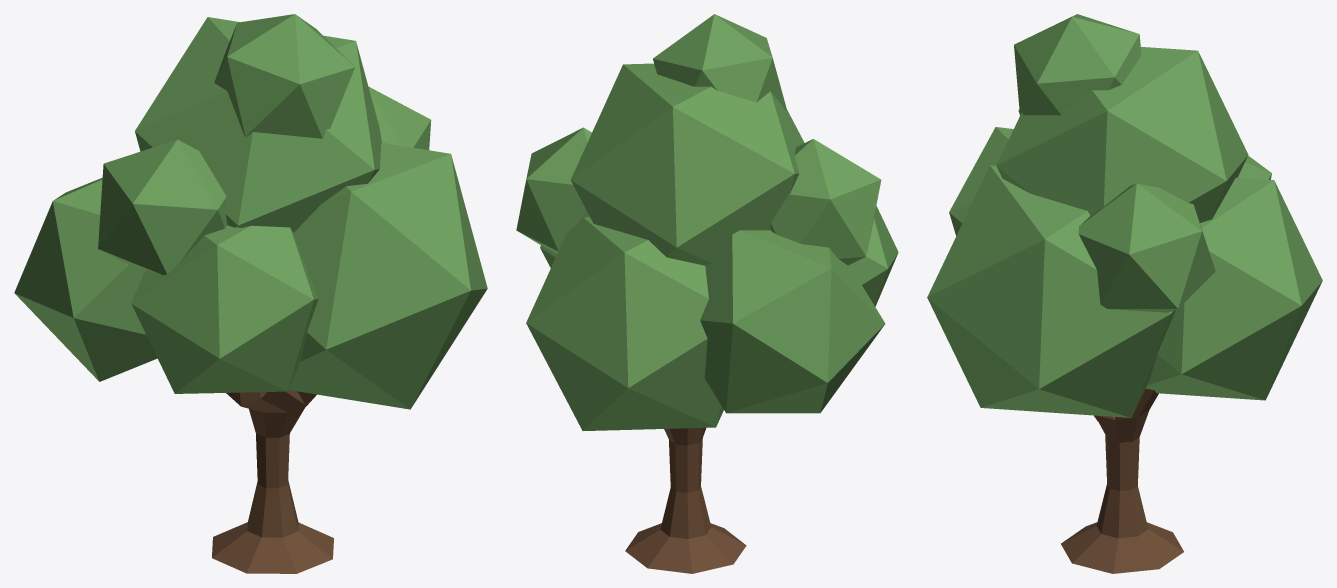
Rendered from pohon-4.fbx.
3 renders of one model, left to right at view 1: azimuth 30°, elevation 25°; view 2: azimuth 150°, elevation 25°; view 3: azimuth 270°, elevation 25°, orthographic. The views are drawn at different scales.
Parts seen in each view (by area): view 1: branch-1.001; view 2: branch-1.001; view 3: branch-1.001.
Part boxes in pixels (left/top/right/bottom): branch-1.001: left=14, top=14, right=487, bottom=573; branch-1.001: left=516, top=14, right=898, bottom=573; branch-1.001: left=927, top=14, right=1322, bottom=573.
Bounding box in the file's own units: 1114 × 1562 × 1059.
